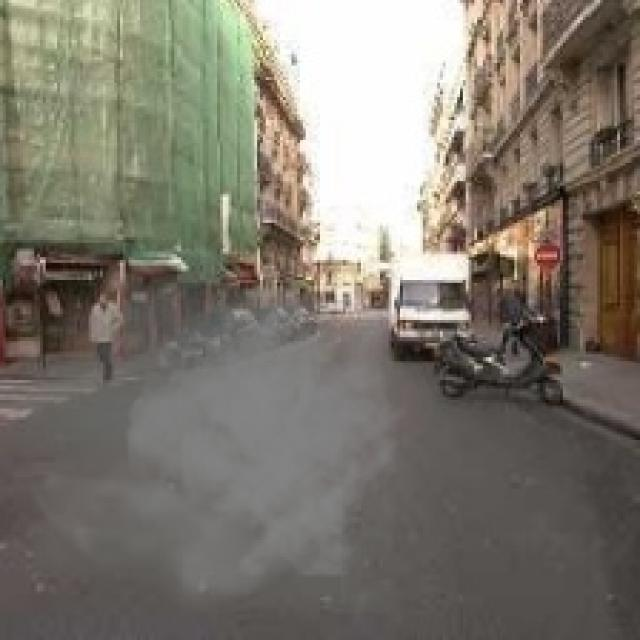smoke: (26, 263, 408, 614)
